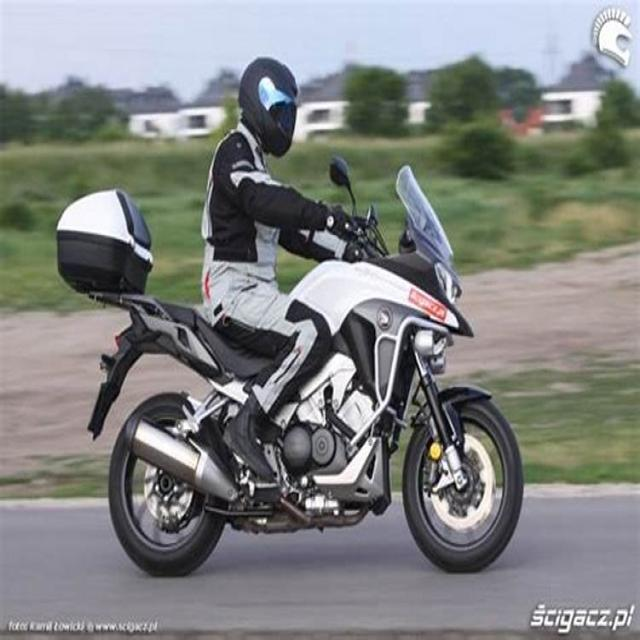helmet: (236, 51, 302, 164)
